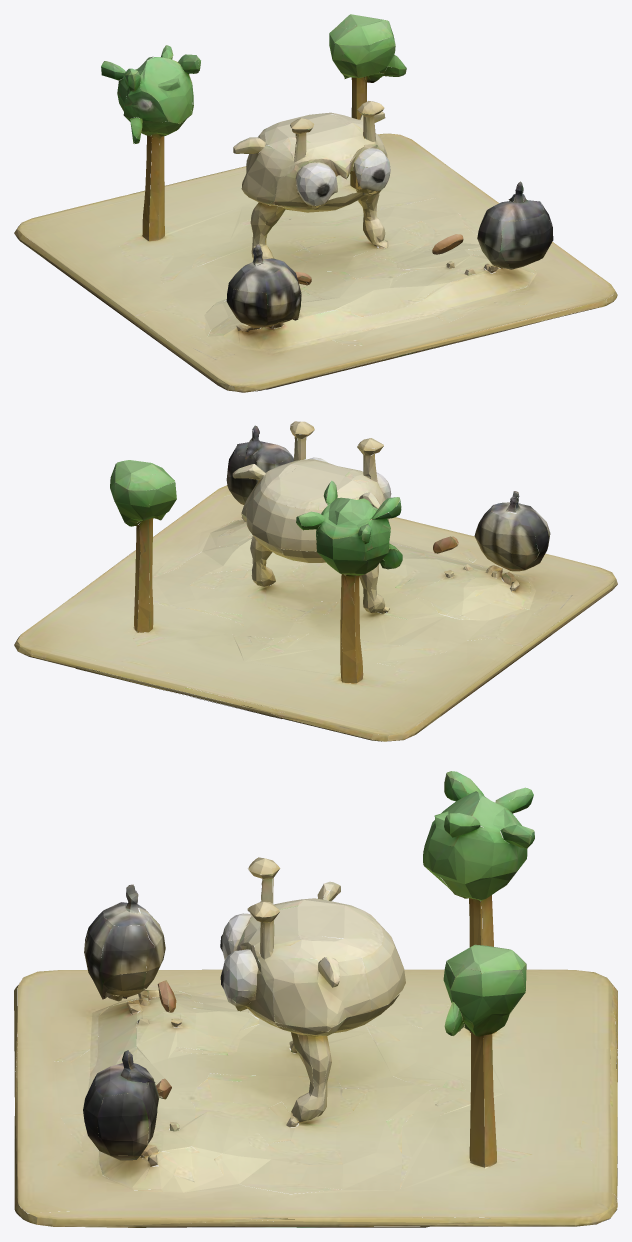
The picture shows the model from 3 angles, top to bottom: view 1: azimuth 30°, elevation 25°; view 2: azimuth 150°, elevation 25°; view 3: azimuth 270°, elevation 25°; orthographic projection. The views are drawn at different scales.
Parts seen in each view (by area): view 1: world; view 2: world; view 3: world.
Part boxes in pixels (left/top/right/bottom): world: left=14, top=14, right=617, bottom=392; world: left=14, top=421, right=617, bottom=741; world: left=14, top=771, right=617, bottom=1227.
Bounding box in the file's own units: 0.9896 × 0.4546 × 1.
1 material, 1 textured.
